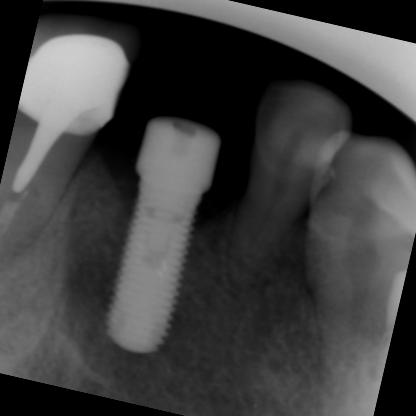Bego: (67, 103, 250, 366)
